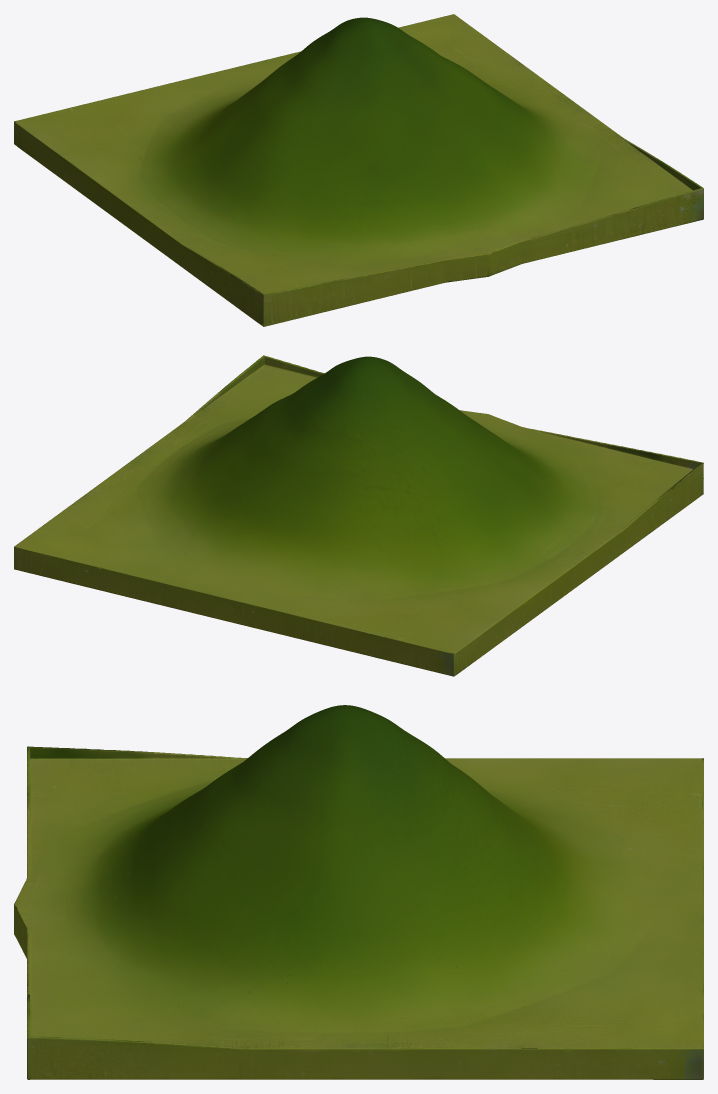
File: mountain.glb
3 views of the same model, one above another, from view 1: azimuth 30°, elevation 25°; view 2: azimuth 150°, elevation 25°; view 3: azimuth 270°, elevation 25° (orthographic). The views are drawn at different scales.
Visible parts, largest first — view 1: texture_pbr_v128; view 2: texture_pbr_v128; view 3: texture_pbr_v128.
Part boxes in pixels (x1,y1,x2,y2): texture_pbr_v128: [14, 14, 703, 326]; texture_pbr_v128: [14, 355, 703, 676]; texture_pbr_v128: [14, 705, 703, 1079].
Bounding box in the file's own units: 0.8246 × 0.2981 × 0.8259.
Materials: 1 (1 with a texture image).
